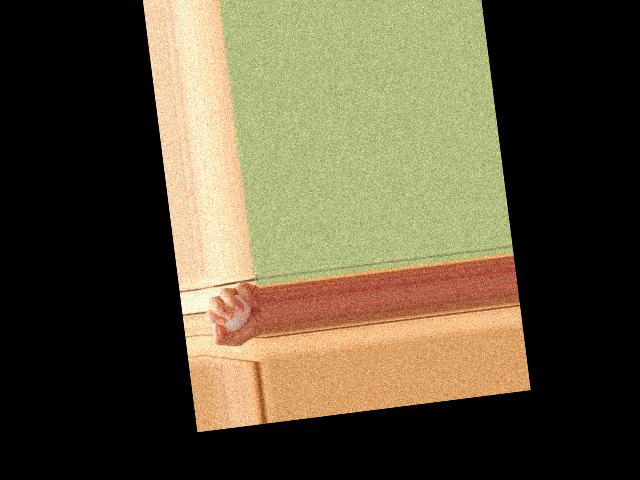egg: (216, 292, 254, 333)
